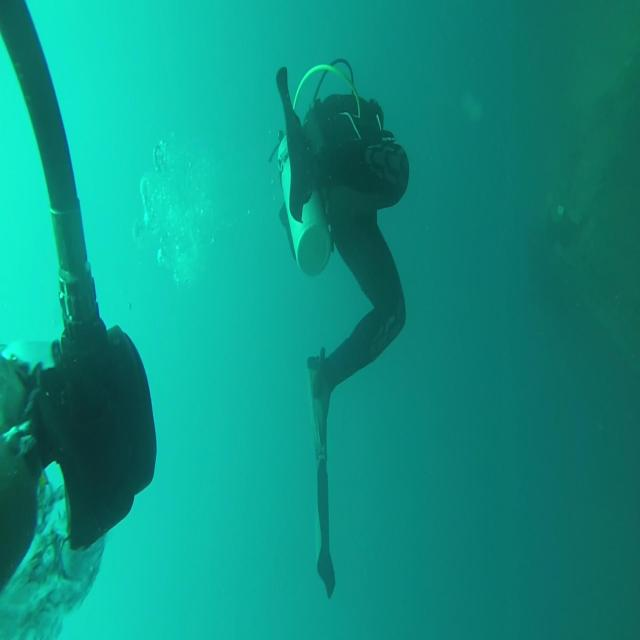human: (269, 57, 410, 598)
